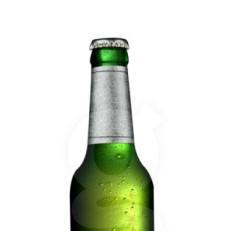beer: (69, 38, 155, 231)
